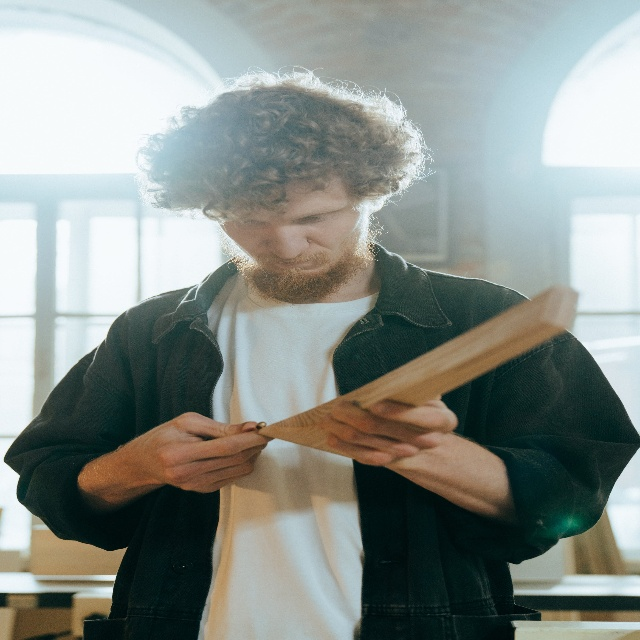Sin_guantes: (320, 394, 460, 477), (149, 413, 270, 495)
